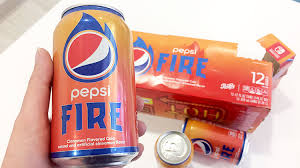can: (45, 6, 143, 161), (183, 117, 263, 164)
